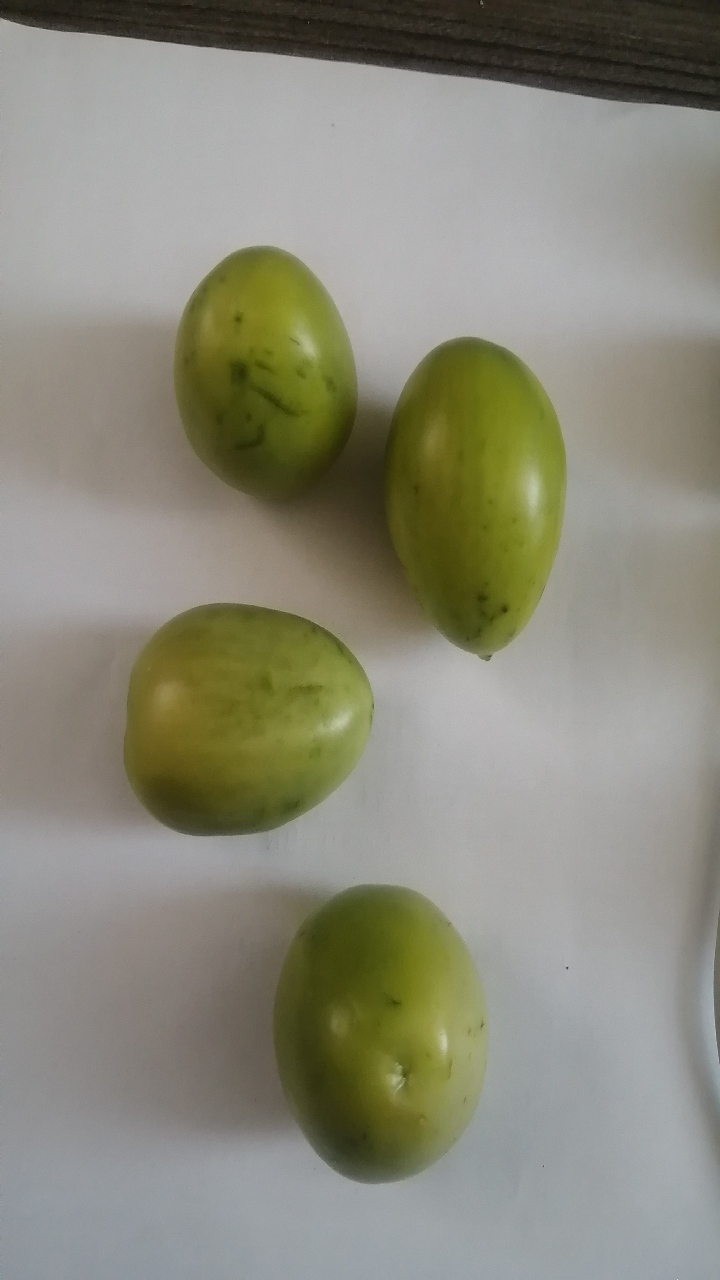tomateVerde: (254, 859, 515, 1205), (366, 308, 574, 679), (143, 209, 371, 532), (108, 594, 384, 852)
